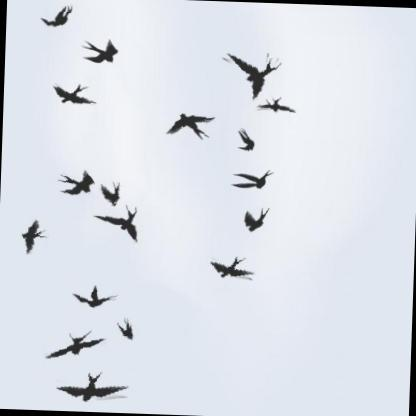bird: (50, 362, 133, 411), (220, 50, 282, 102), (160, 104, 229, 150), (40, 326, 111, 365), (91, 202, 150, 247), (200, 246, 259, 286), (75, 31, 131, 67), (219, 166, 284, 197), (13, 213, 56, 258), (48, 76, 101, 112), (70, 280, 122, 311), (233, 205, 280, 238), (51, 166, 95, 199), (108, 314, 149, 343), (40, 0, 77, 31), (256, 93, 305, 116), (233, 123, 265, 158), (97, 178, 130, 205)
